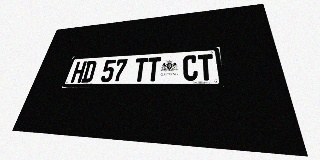5: (100, 59, 116, 82)
7: (112, 59, 128, 82)
C: (183, 55, 198, 81)
D: (81, 61, 97, 83)
H: (70, 61, 87, 83)
T: (198, 54, 215, 81), (133, 58, 148, 82), (146, 57, 161, 81)
